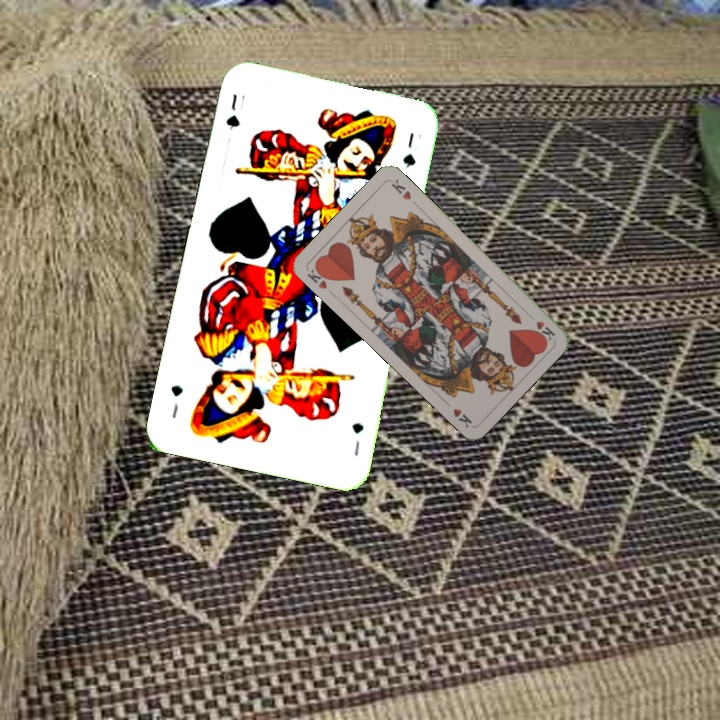GU: (222, 90, 248, 133), (348, 418, 367, 459)
HK: (303, 262, 333, 292), (532, 317, 558, 343)
